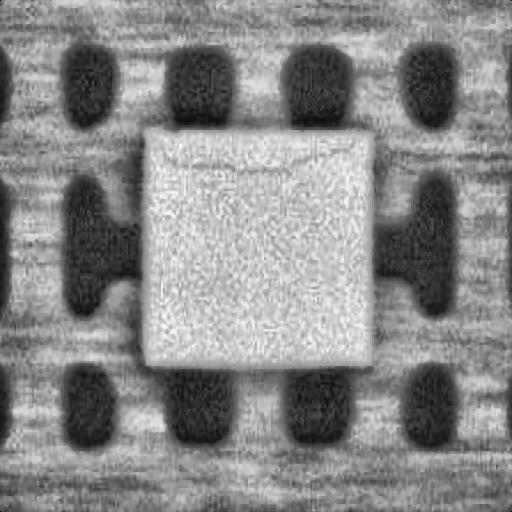DIE_CRACK: (156, 138, 351, 172)
